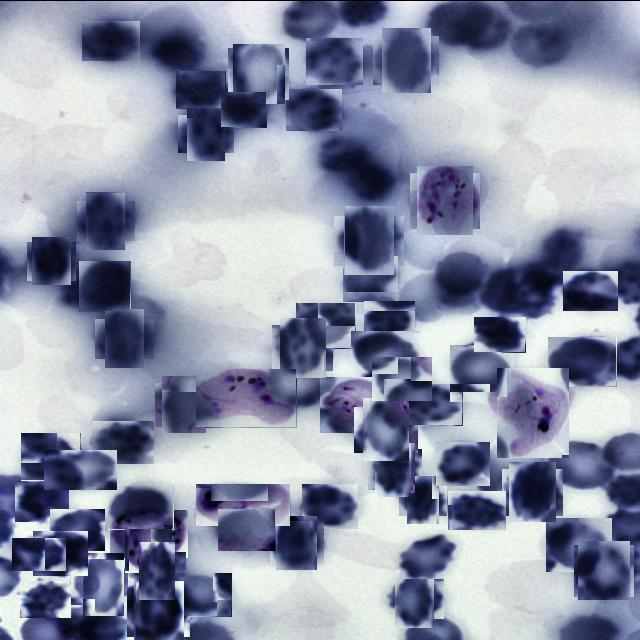red blood cell: (547, 438, 617, 490), (339, 210, 399, 270), (546, 517, 612, 571), (548, 336, 617, 386), (351, 330, 420, 378), (377, 31, 435, 88), (130, 583, 186, 639), (230, 45, 286, 101), (576, 542, 632, 598), (450, 344, 515, 392), (358, 402, 414, 456), (44, 449, 117, 489), (506, 464, 560, 518), (276, 320, 330, 374), (108, 485, 174, 529), (21, 432, 81, 480), (306, 37, 364, 85), (296, 302, 356, 348), (372, 356, 433, 401), (92, 418, 154, 462), (77, 558, 129, 610), (158, 378, 210, 429), (79, 260, 131, 311), (172, 572, 232, 616), (342, 255, 398, 302), (400, 532, 457, 578), (302, 483, 358, 528), (100, 312, 150, 362), (33, 530, 88, 575), (390, 574, 440, 622), (406, 383, 463, 425), (218, 508, 275, 550), (436, 441, 490, 485), (448, 490, 507, 530), (286, 88, 342, 130), (81, 196, 130, 244), (82, 20, 140, 60), (50, 508, 105, 550), (273, 518, 321, 566), (133, 546, 181, 594), (182, 109, 230, 156), (372, 444, 418, 492), (563, 270, 618, 310), (15, 481, 69, 521), (364, 300, 416, 341), (20, 578, 71, 616), (30, 238, 74, 282), (176, 70, 226, 108), (474, 316, 526, 352), (12, 537, 67, 571), (221, 91, 267, 127), (403, 478, 443, 518)
trophozoite: (492, 372, 574, 452), (196, 368, 297, 427), (320, 376, 393, 432), (196, 483, 291, 526), (117, 501, 180, 564), (414, 168, 476, 232)
